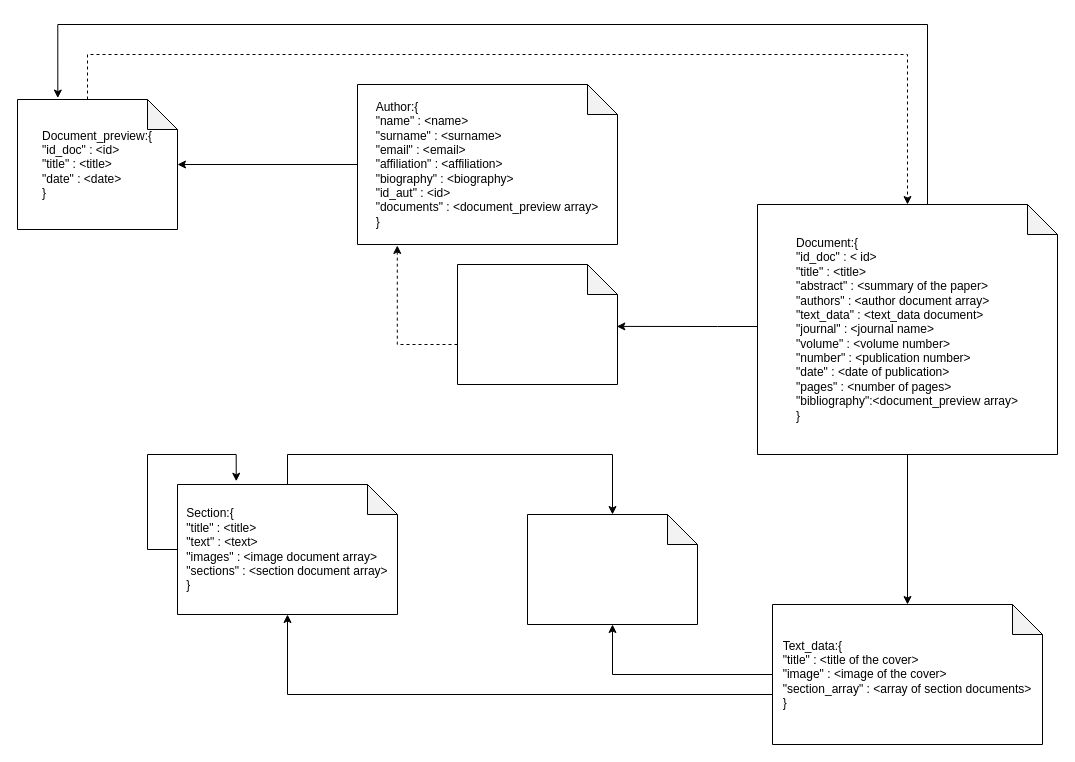
This 1075x762 diagram has some shape labels left out. The centre of each missing label's shape, as x and y in pixels:
Author_preview:{ "id_aut" : <id> "name" : <name> "surname" : <surname> }: (537,324)
Image:{ "url" : <url> "caption" : <small description> }: (612,569)
